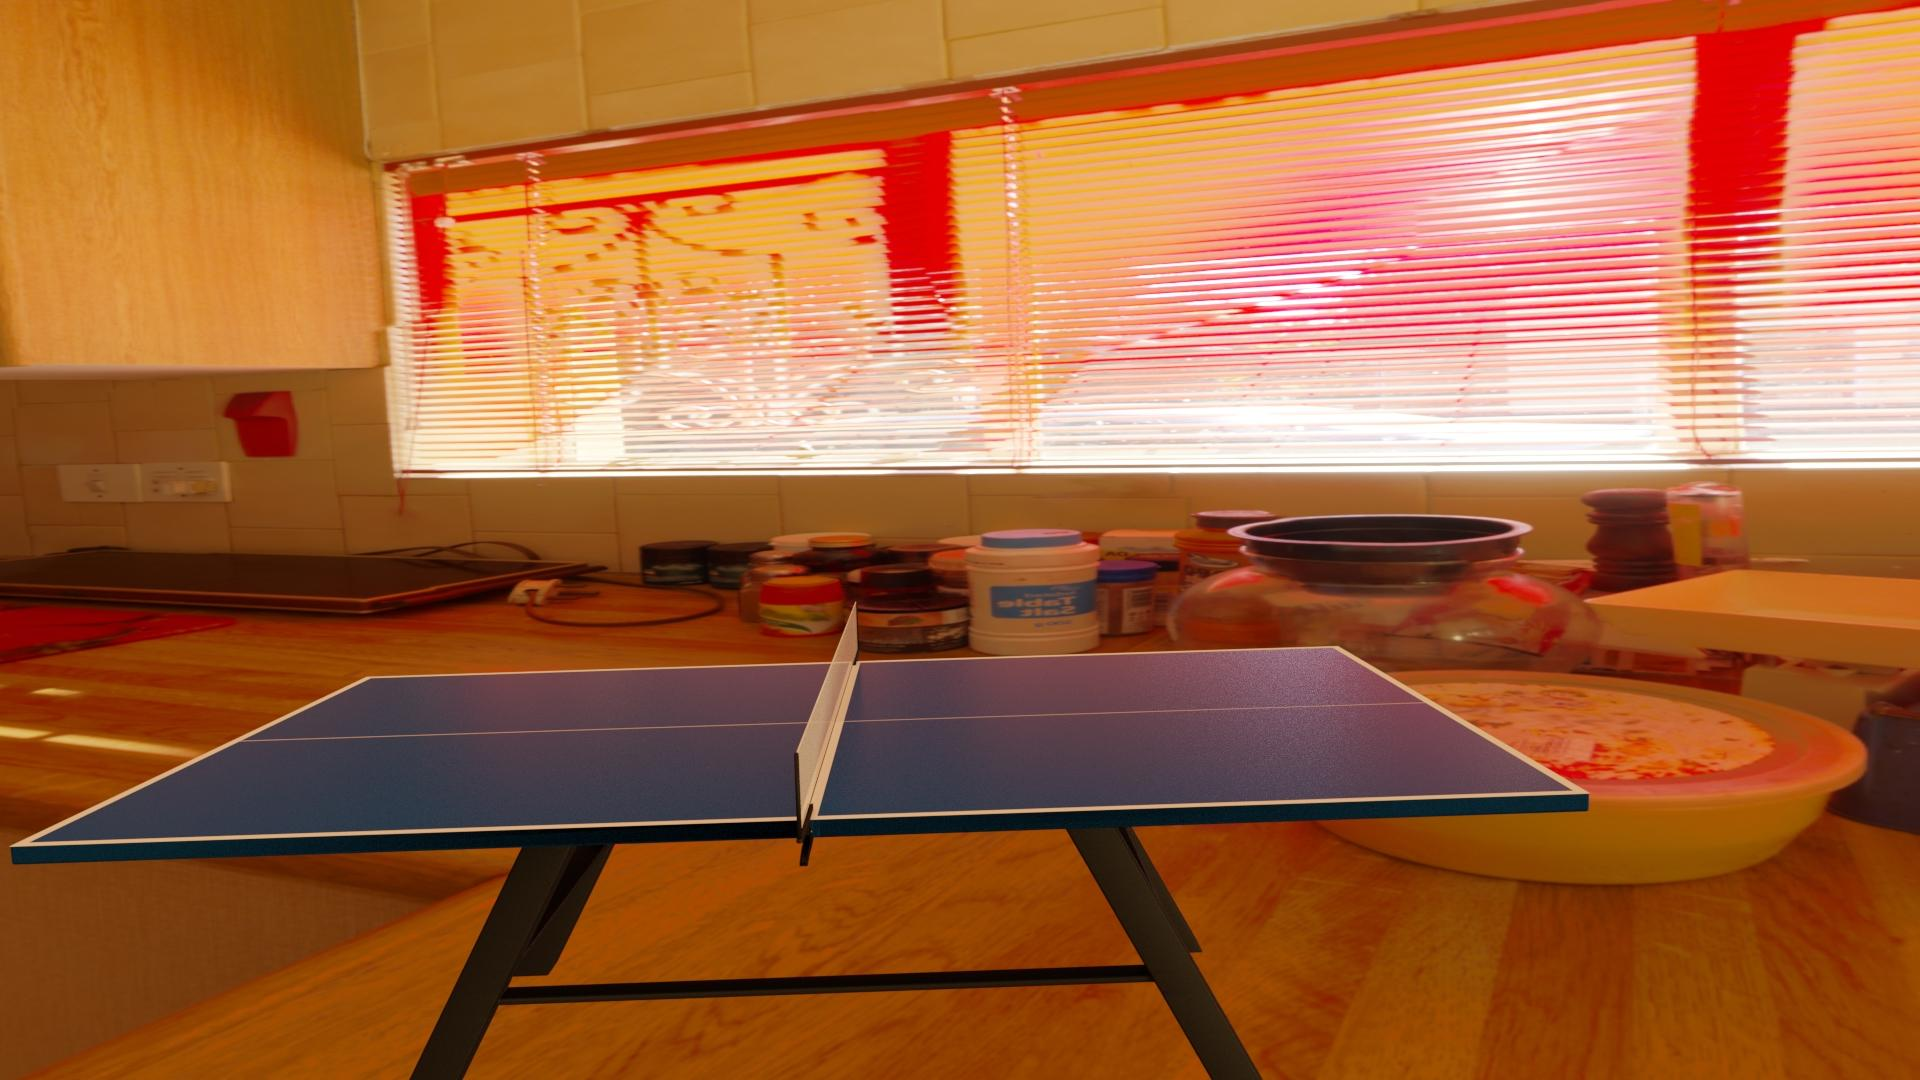table: (28, 647, 1573, 843)
